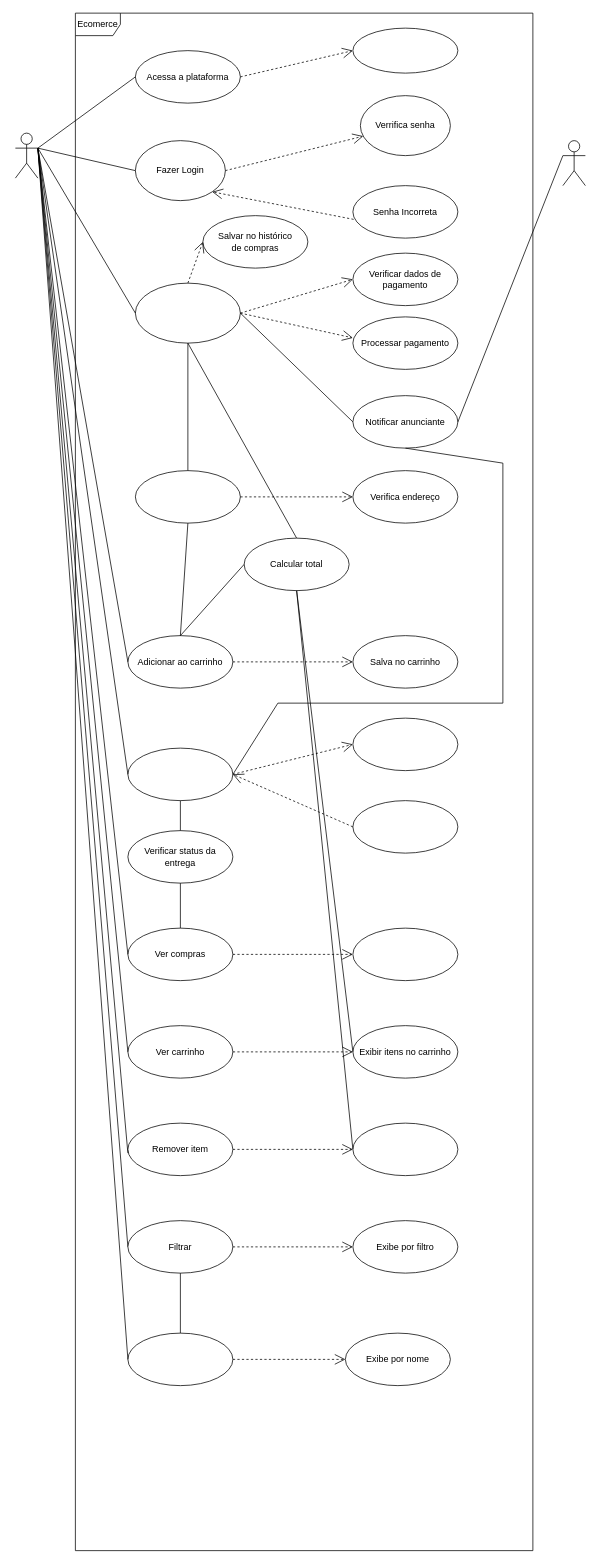
Some shapes in this 610 by 1564 pixel diagram are drawn without their labels. Each missing label, with the centre of its shape:
"Anunciante" goes at point 573,163.
"Atualizar carrinho" goes at point 405,1149.
"Buscar por nome" goes at point 180,1359.
"Calcular frete" goes at point 187,496.
"Cancelar Compra" goes at point 180,774.
"Cliente" goes at point 26,155.
"Exibe produtos" goes at point 405,50.
"Exibir compras" goes at point 405,954.
"Fazer compra" goes at point 187,312.
"Não é possível cancelar" goes at point 405,826.
"Reembolsar dinheiro" goes at point 405,744.
